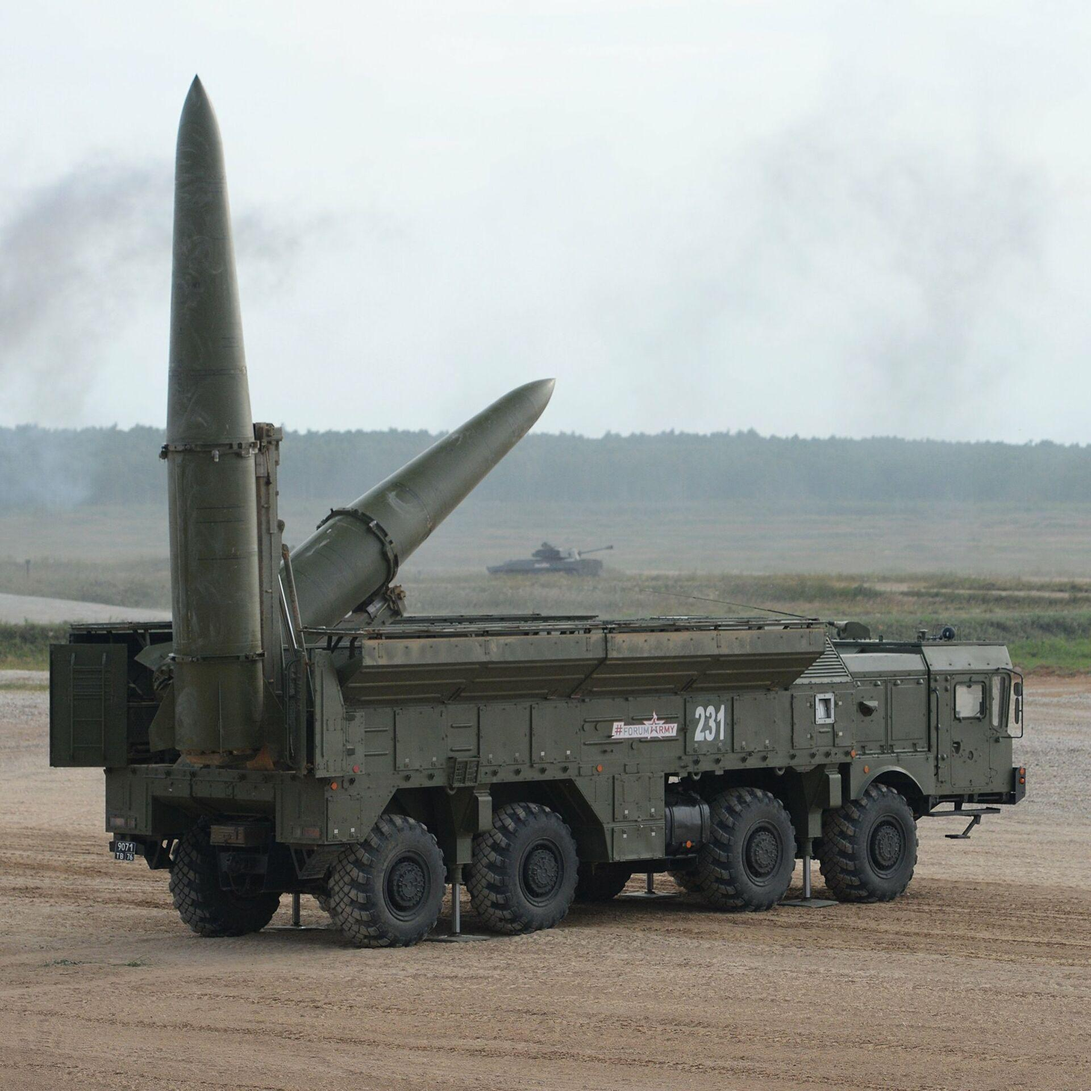rszo: (76, 597, 1063, 950)
tank: (487, 532, 626, 580)
